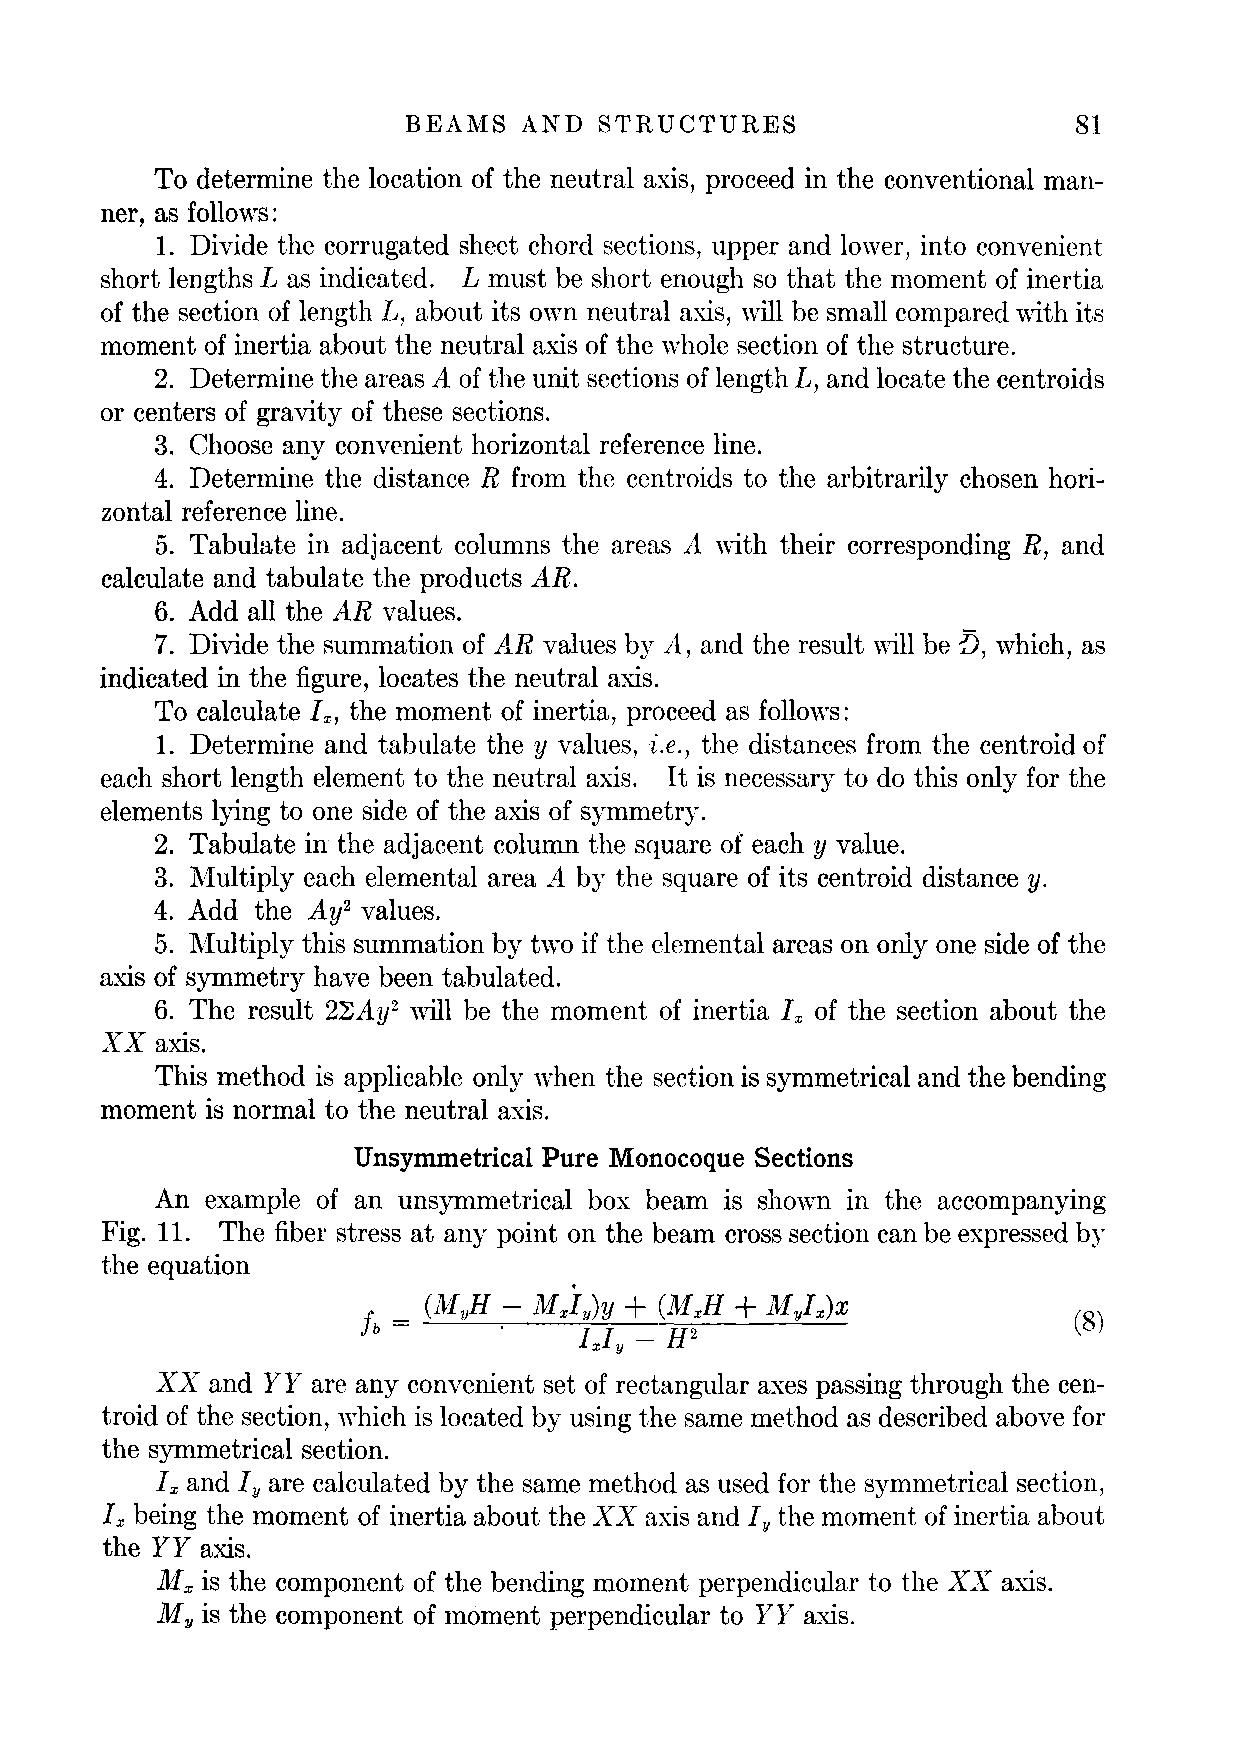chapter: (342, 1135, 863, 1173)
content: (98, 162, 1108, 1126), (98, 1185, 1110, 1629)
content_chapter: (399, 109, 798, 136)
content_pagenumber: (1070, 111, 1100, 138)
